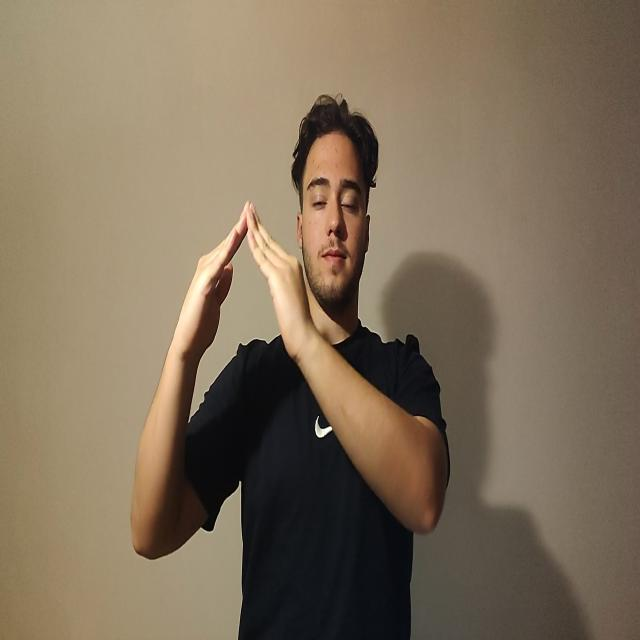house: (175, 199, 314, 362)
